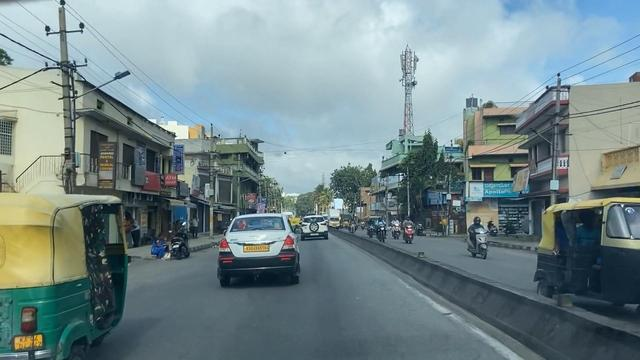LMV: (219, 214, 299, 287), (169, 225, 188, 263), (301, 216, 328, 240)
